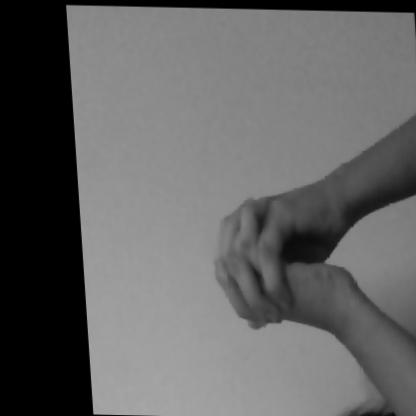prayer: (170, 128, 409, 379)
